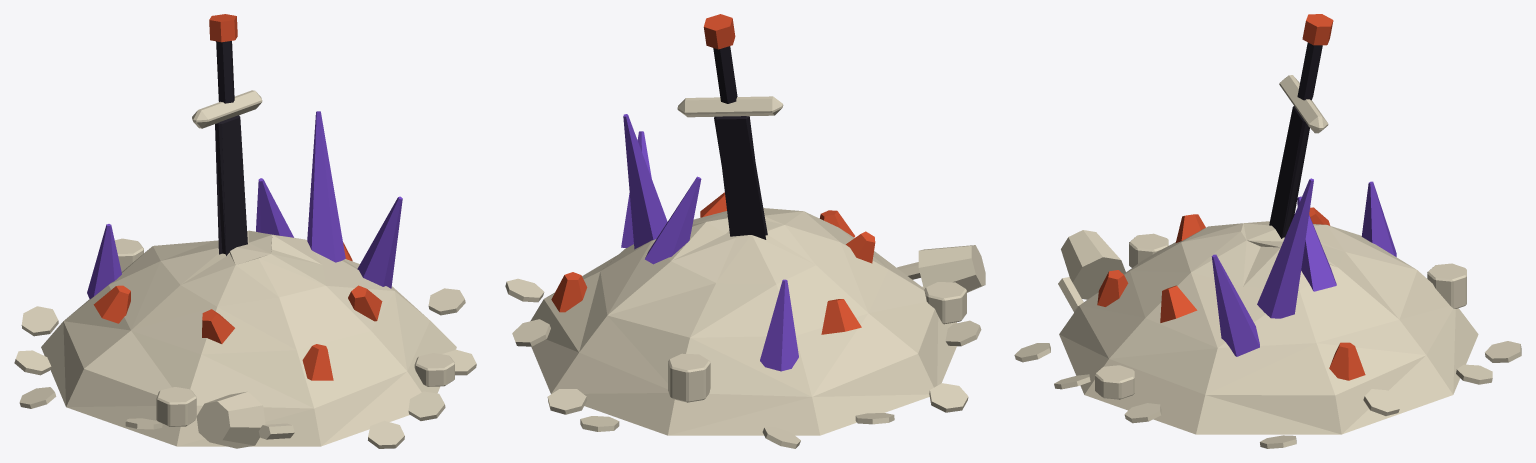
The model's file is loot_pile.obj.
3 views of the same model, side by side, from view 1: azimuth 30°, elevation 25°; view 2: azimuth 150°, elevation 25°; view 3: azimuth 270°, elevation 25° (orthographic). The views are drawn at different scales.
Visible parts, largest first — view 1: loot_pile; view 2: loot_pile; view 3: loot_pile.
Boxes of the visible parts, bbox=[...] form: loot_pile: bbox=[14, 14, 476, 448]; loot_pile: bbox=[505, 14, 985, 448]; loot_pile: bbox=[1014, 14, 1521, 448].
Size of the model in its own units: 1.2 by 0.8597 by 1.19.
